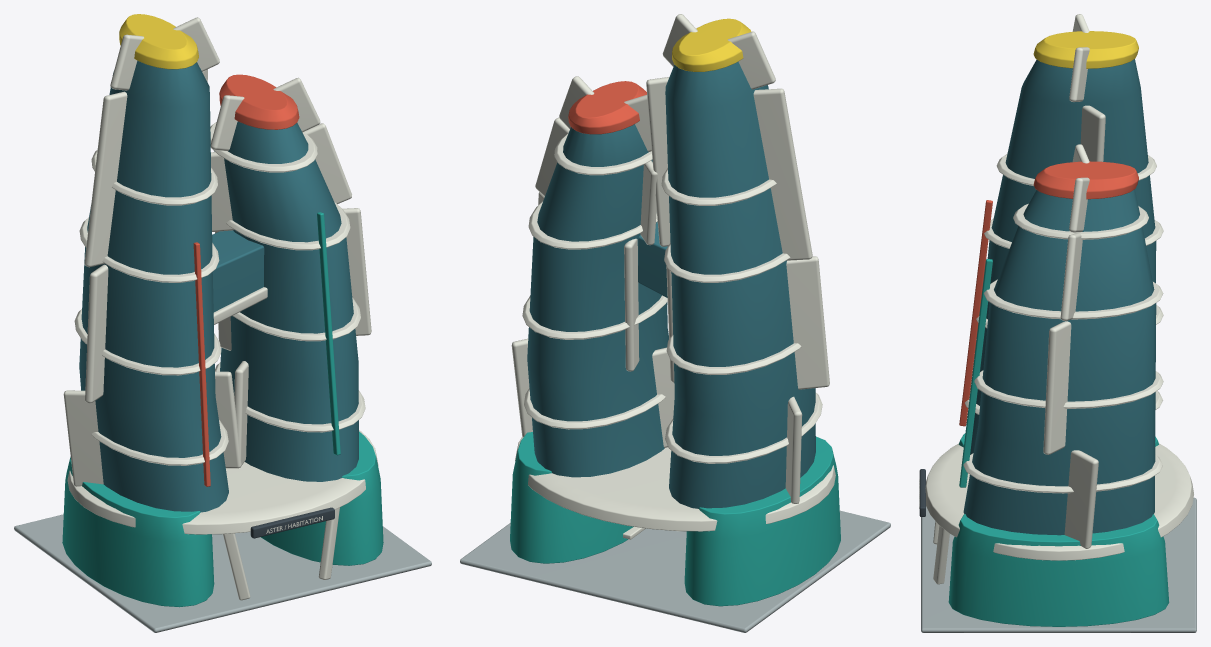
File: aster_tower.glb
3 renders of one model, left to right at view 1: azimuth 30°, elevation 25°; view 2: azimuth 150°, elevation 25°; view 3: azimuth 270°, elevation 25°, orthographic. The views are drawn at different scales.
Visible parts, largest first — view 1: aster_tower; view 2: aster_tower; view 3: aster_tower.
Part boxes in pixels (left/top/right/bottom): aster_tower: left=14, top=14, right=431, bottom=632; aster_tower: left=460, top=14, right=890, bottom=632; aster_tower: left=919, top=14, right=1196, bottom=632.
Size of the model in its own units: 18.32 by 32.2 by 15.81.
